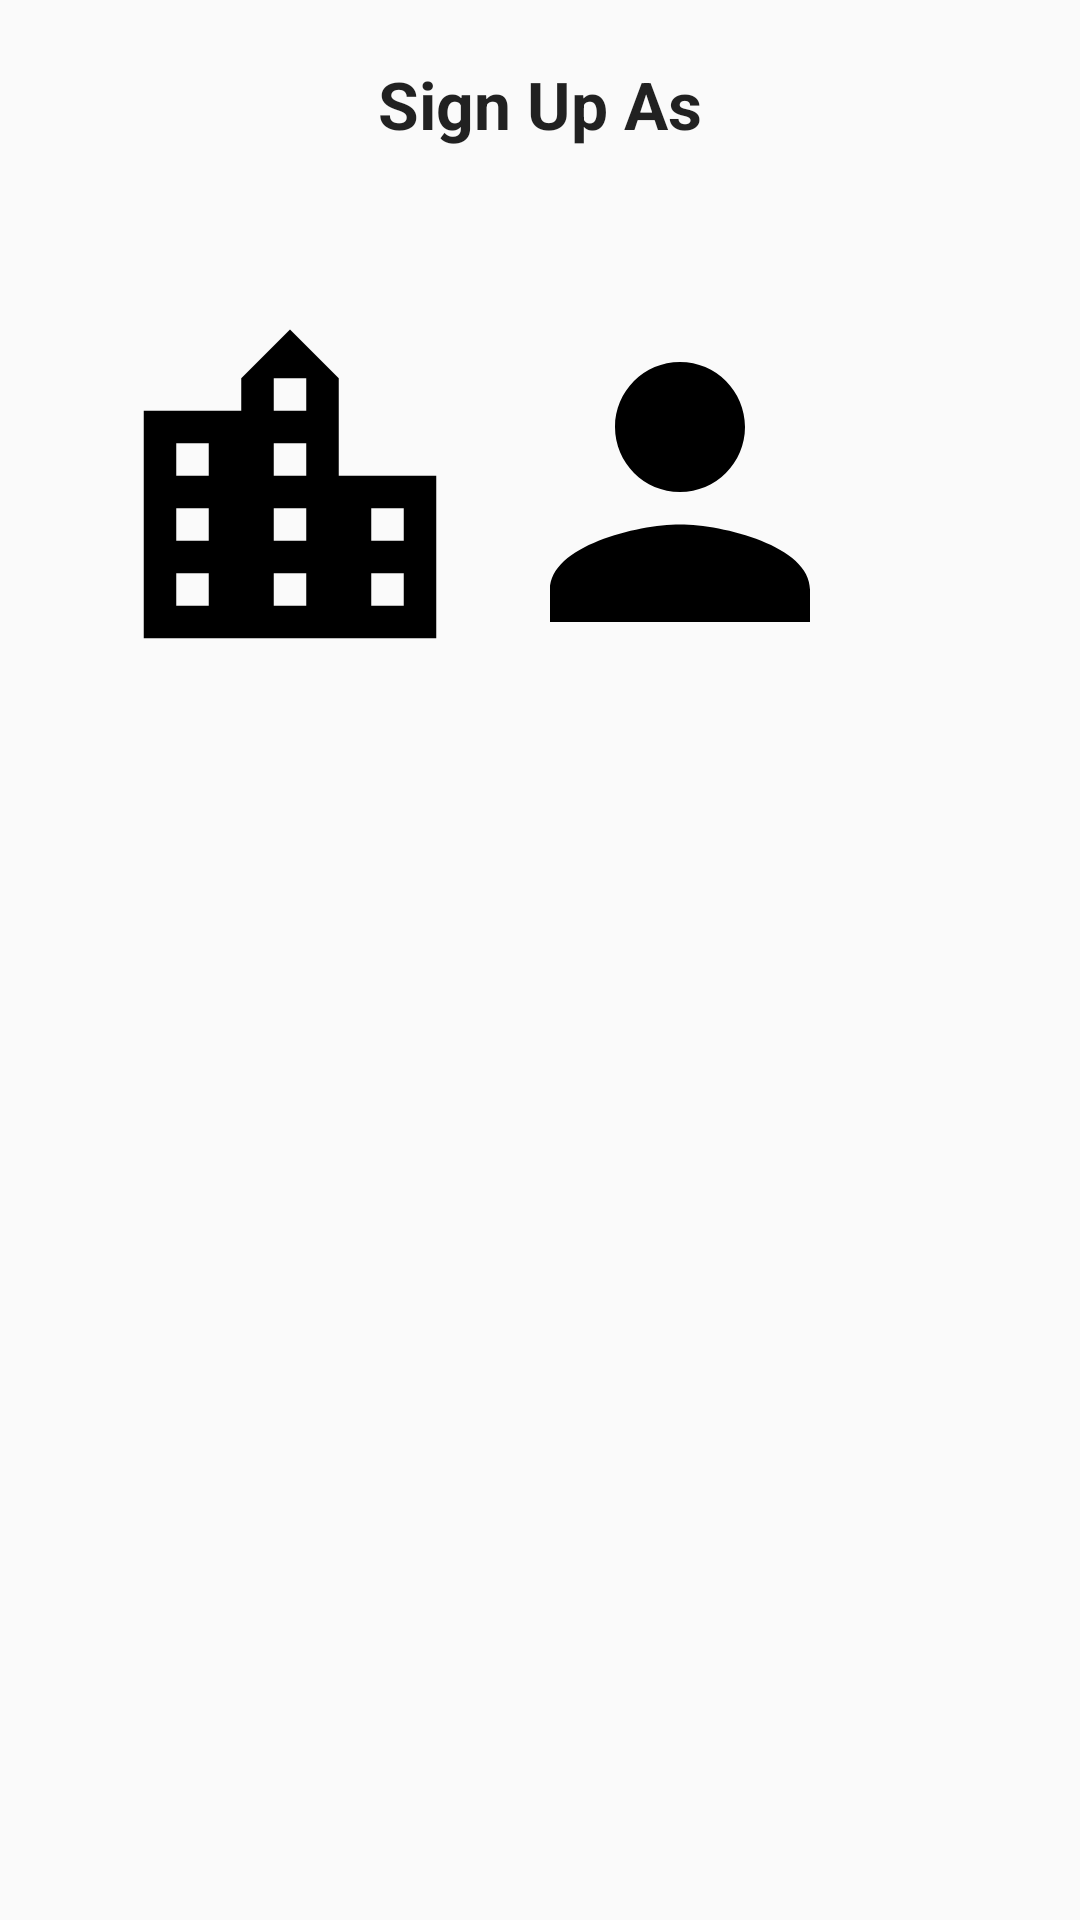

Named icons in this screenshot (1080×1920) and their centers, [x,y]:
location city: [290,484]
person: [680,492]
